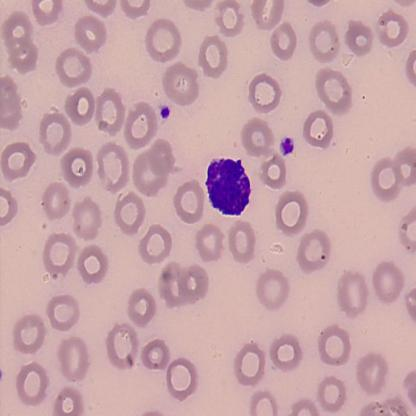Basophil: (203, 154, 254, 220)
